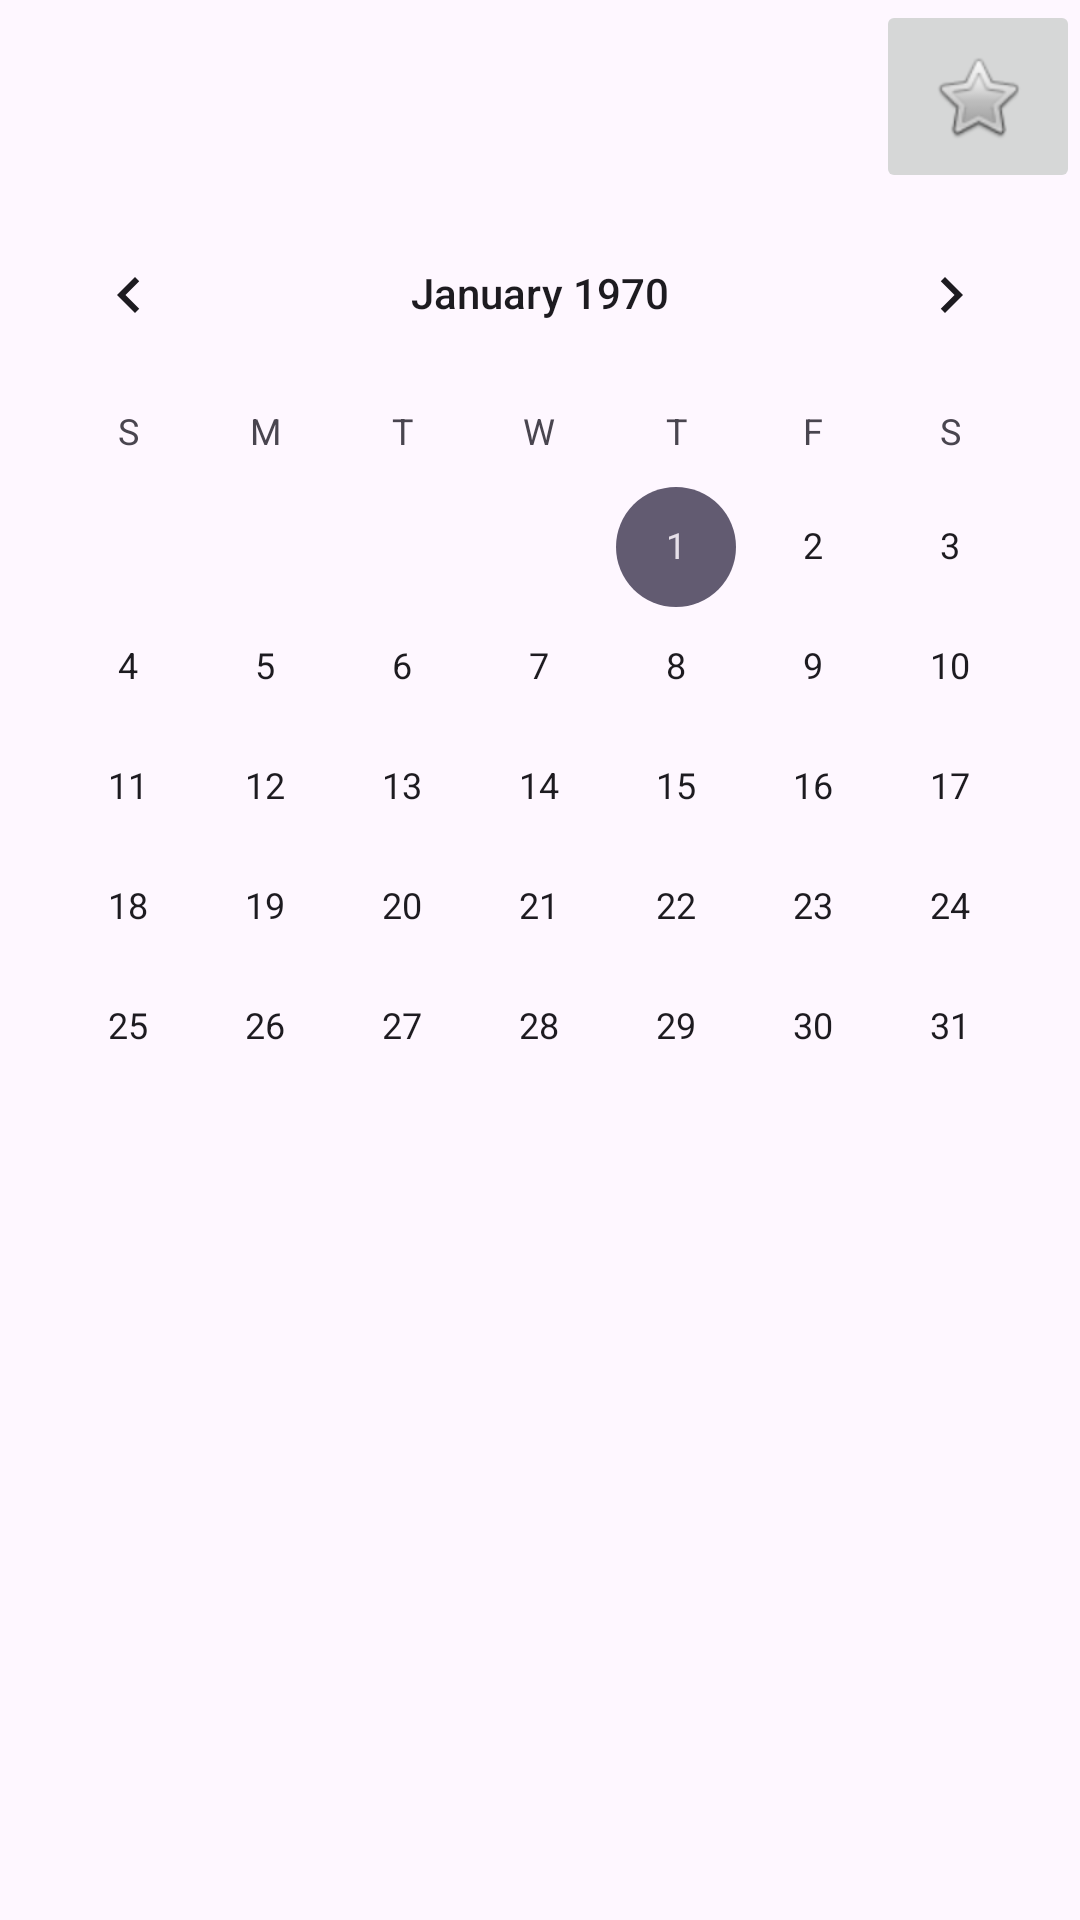

Screen size 1080 × 1920. Icon name, then its box in pixels as (left=x1, top=y1, right=x2, bottom=y2):
star: (left=888, top=18, right=1068, bottom=175)
